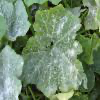Squash Powdery mildew leaf: (19, 3, 90, 96), (0, 45, 25, 100), (0, 1, 32, 41), (82, 0, 99, 32)
